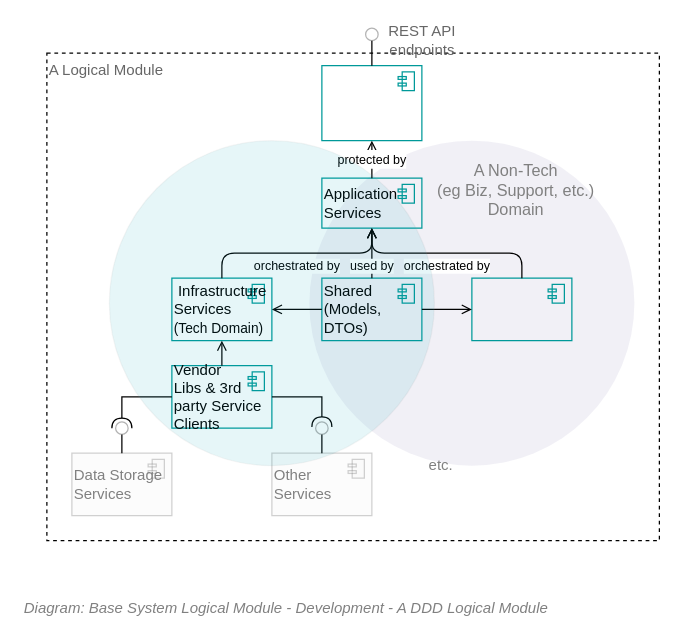
Some shapes in this 693 by 643 pixel diagram are drawn without their labels. Here are the shapes that lost their labels. From the top down, the box of each, then its label:
(321, 64, 422, 141): Service Facade (Cross-Tier Protocol specific)
(108, 139, 434, 466): Tech Domain
(471, 277, 572, 341): (a specific) Domain Services
